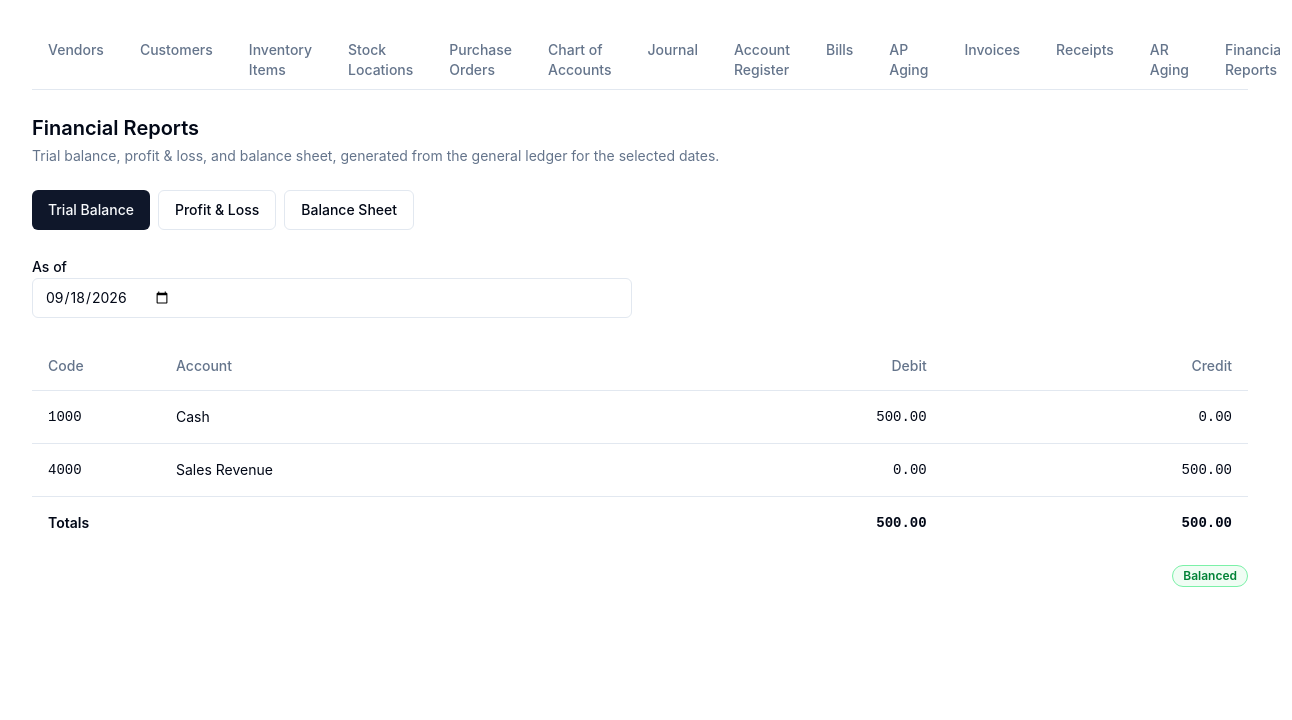
Test case: FinancialReports screen › renders the Balance Sheet tab with assets/liabilities/equity and a balanced total
Expected: the text "Cash" is shown, [160,390,637,443]
Click the tab "Balance Sheet". click: [349, 210]
box: [284,190,414,230]
(page scrolled)
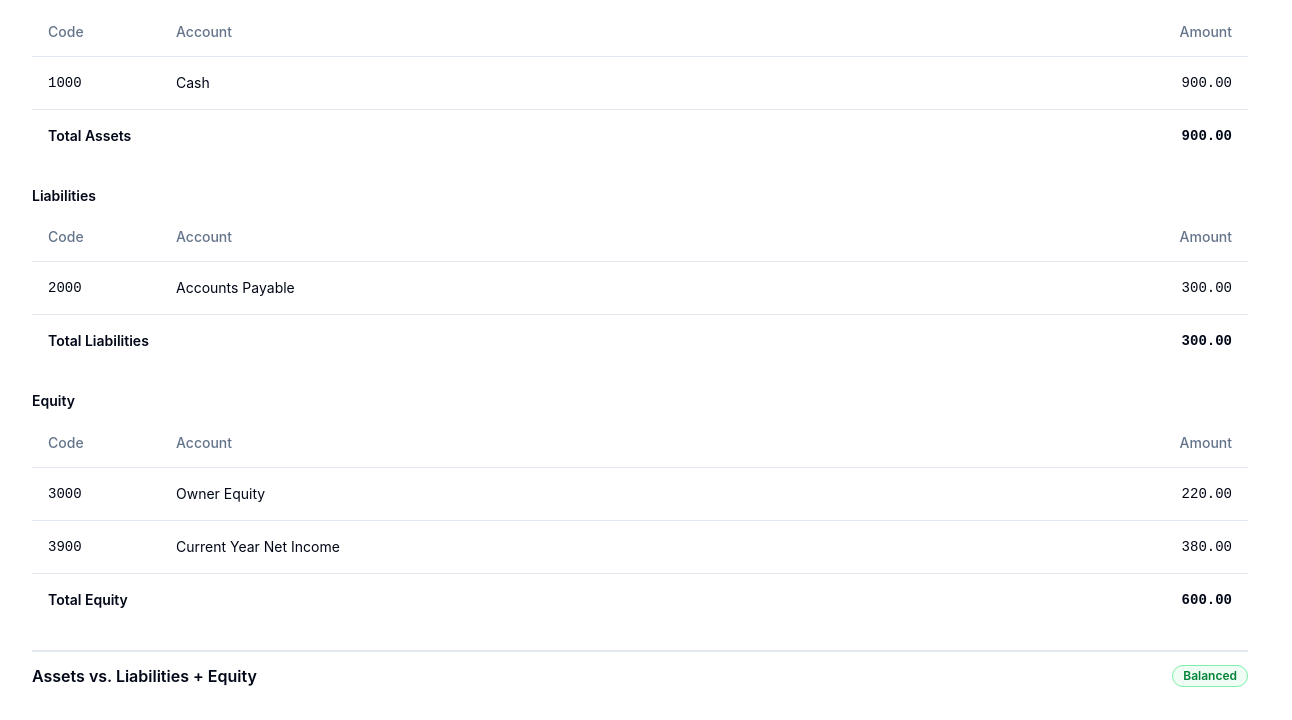
Now the text "Total Assets" is shown, box [32,109,715,162]
Now the heading "Liabilities" is shown, box [32,186,96,204]
Now the text "Total Liabilities" is shown, box [32,314,857,367]
